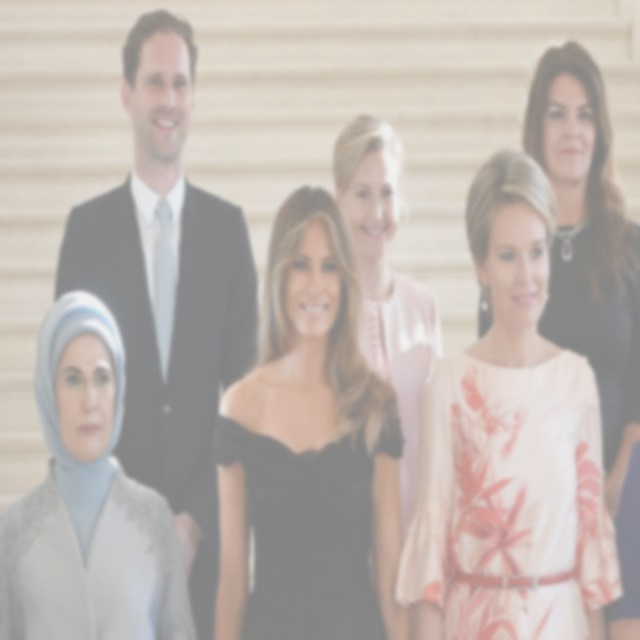pessoa: (52, 9, 262, 630), (388, 138, 634, 640), (473, 31, 640, 640), (212, 185, 414, 640), (0, 287, 199, 639), (331, 111, 445, 544)
